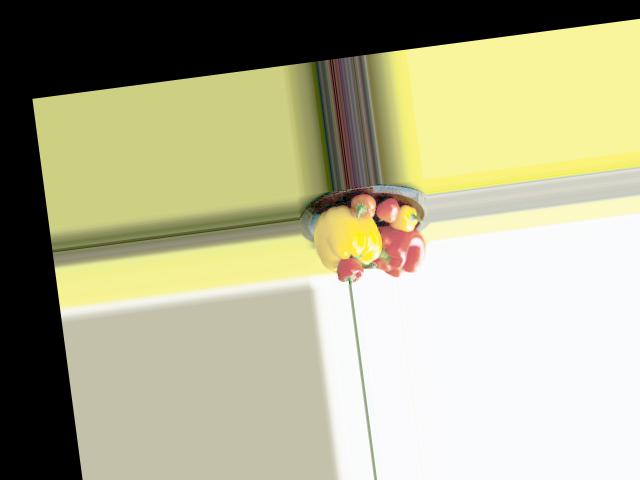bell_pepper: (391, 204, 422, 234)
